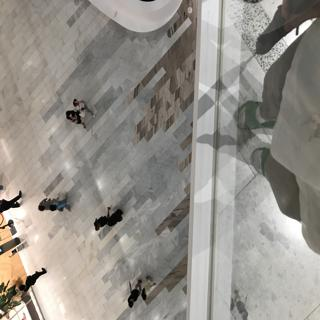person: (73, 95, 100, 131), (90, 211, 126, 237), (58, 107, 87, 136), (125, 281, 148, 307), (141, 274, 165, 297), (48, 193, 71, 216), (30, 196, 52, 215)
